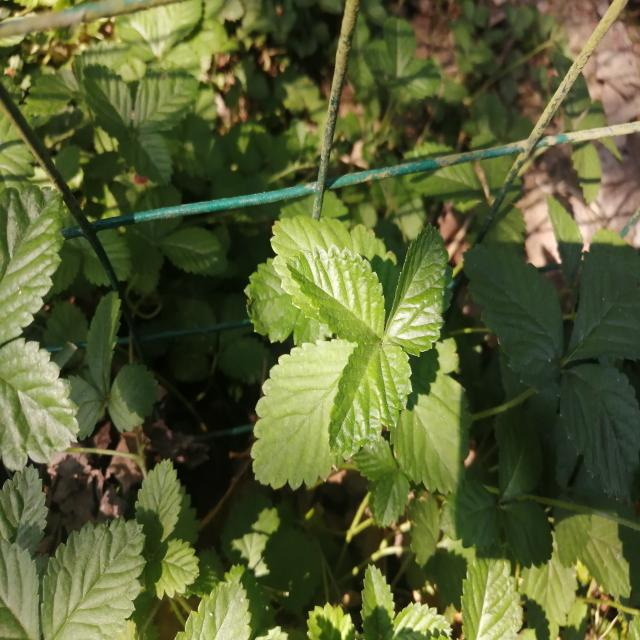Mock_strawberry: (250, 228, 471, 482)
